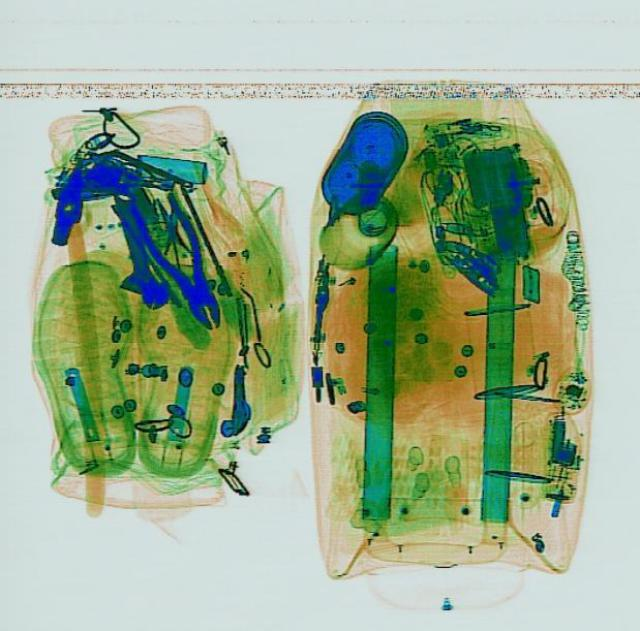Pliers: (124, 180, 236, 337)
Wrench: (88, 179, 168, 316)
